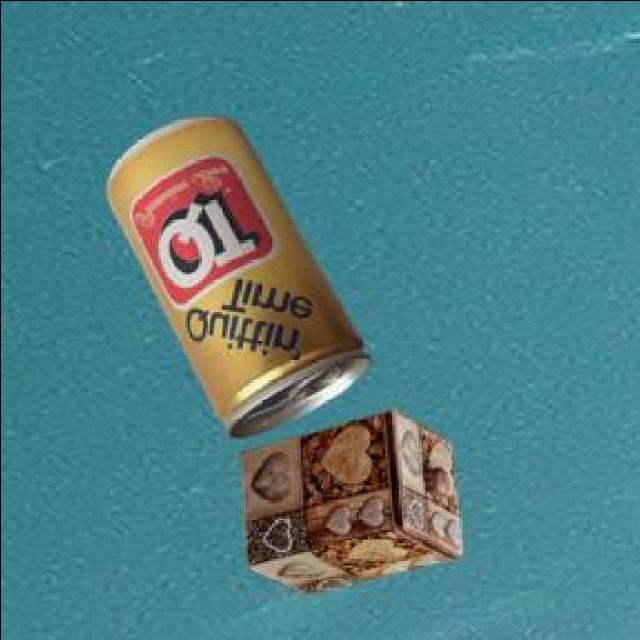logam: (103, 119, 366, 441), (237, 412, 459, 597)
